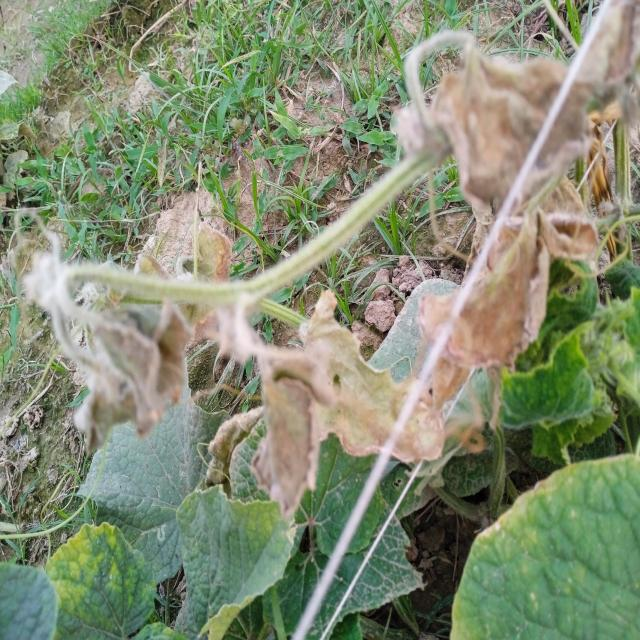cucumber_bacterial: (248, 277, 452, 499), (421, 19, 620, 207), (11, 229, 178, 427), (279, 462, 456, 632), (442, 212, 572, 395), (34, 488, 156, 640)
